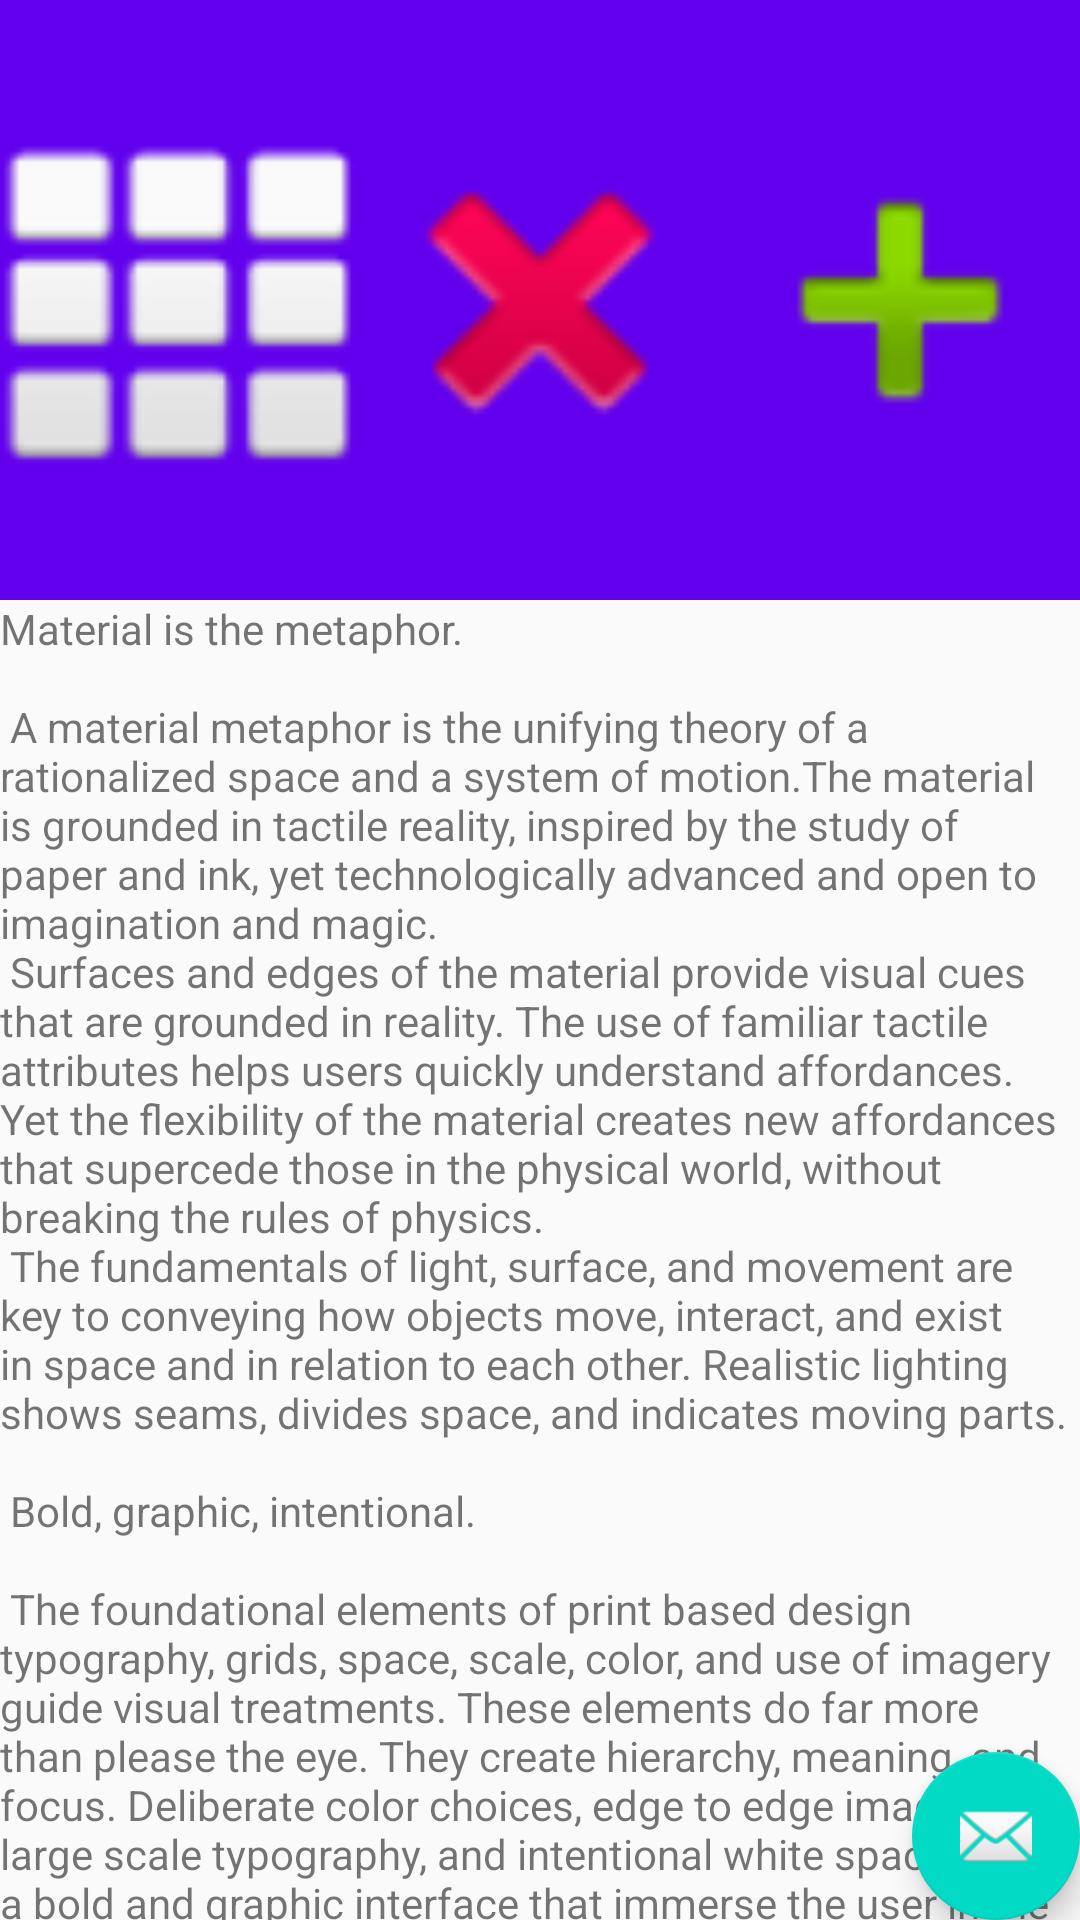

Icons on this 1080x1920 Android screen, each with its box as bbox(x1, y1, x2, y2):
add: bbox(797, 198, 1003, 402)
delete: bbox(426, 191, 654, 413)
dialer: bbox(5, 148, 351, 460)
email: bbox(912, 1752, 1080, 1920)
